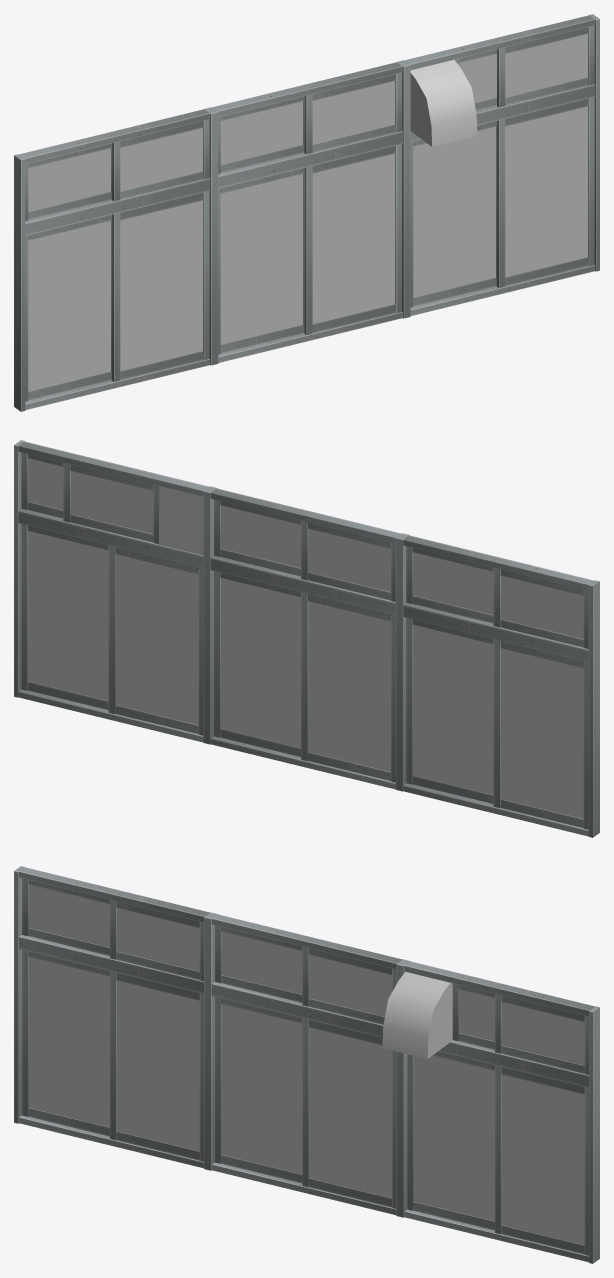
Rendered from bil_window_b1_4b.fbx.
The picture shows the model from 3 angles, top to bottom: view 1: azimuth 30°, elevation 25°; view 2: azimuth 150°, elevation 25°; view 3: azimuth 330°, elevation 25°; orthographic projection.
Parts seen in each view (by area): view 1: bil_window_b1_4b; view 2: bil_window_b1_4b; view 3: bil_window_b1_4b.
Part boxes in pixels (x1=…): bil_window_b1_4b: x1=14, y1=14, x2=599, y2=411; bil_window_b1_4b: x1=14, y1=440, x2=599, y2=837; bil_window_b1_4b: x1=14, y1=866, x2=599, y2=1263.
Size of the model in its own units: 547 by 227 by 46.55.
